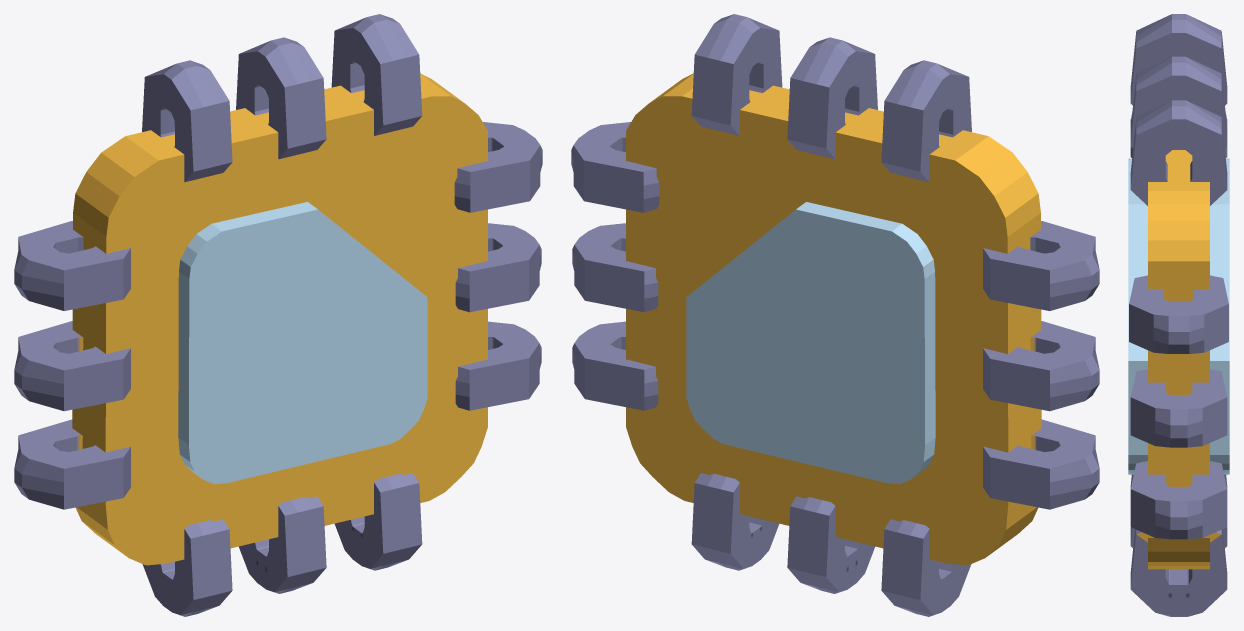
File: fbChip.fbx
3 renders of one model, left to right at view 1: azimuth 30°, elevation 25°; view 2: azimuth 150°, elevation 25°; view 3: azimuth 270°, elevation 25°, orthographic. The views are drawn at different scales.
Parts seen in each view (by area): view 1: Cube.005; view 2: Cube.005; view 3: Cube.005.
Boxes of the visible parts, x1,y1,x2,y2 form: Cube.005: (14, 14, 542, 616); Cube.005: (571, 14, 1099, 616); Cube.005: (1128, 14, 1229, 616).
Size of the model in its own units: 92.32 by 93.02 by 16.72.
